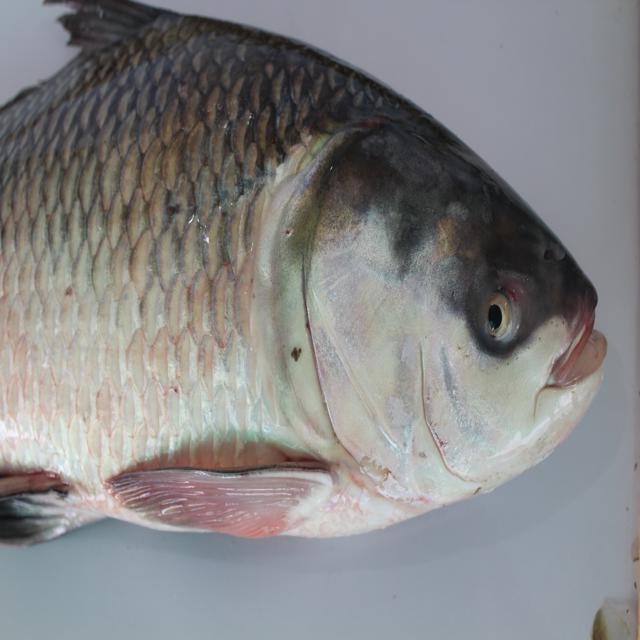Catla: (1, 1, 608, 551)
